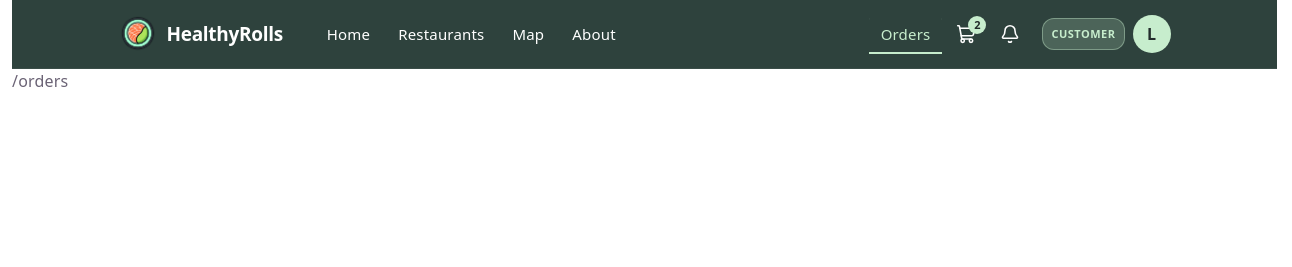
Test: Navbar characterisation › closes the account menu when clicking outside it
What coordinates should you click on to do the following:
click the button named "Account menu"
I would click on:
 (1152, 34)
Its box is top-left (1132, 15), bottom-right (1170, 53).
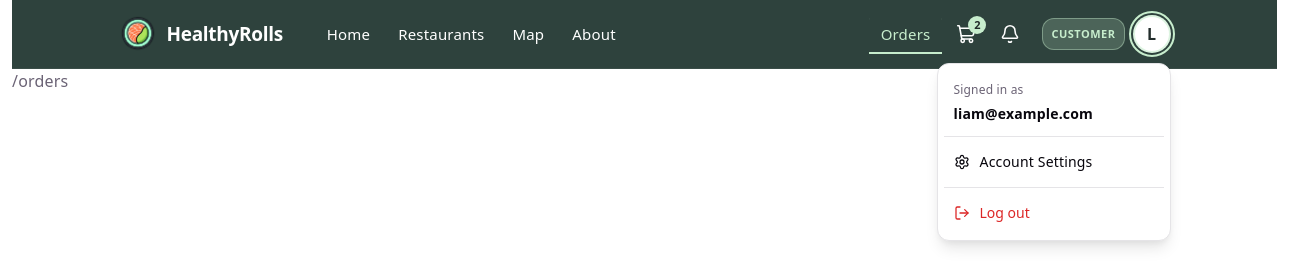
What coordinates should you click on to do the following:
click the text named "Current route"
I would click on:
 (40, 81)
Its box is top-left (12, 70), bottom-right (68, 92).
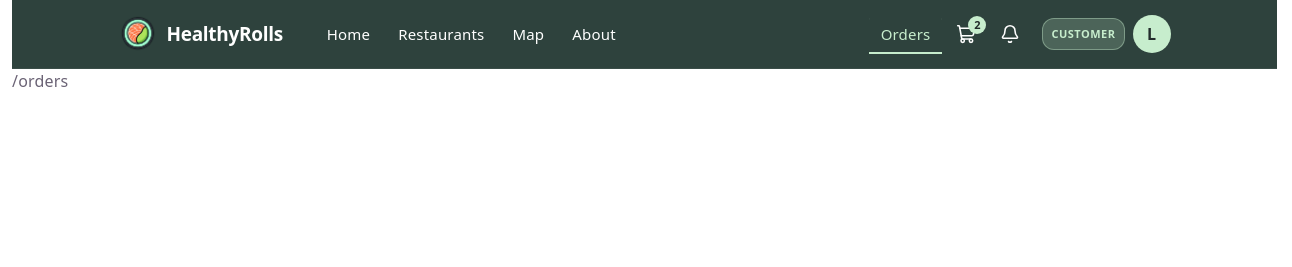
Check: the menu is gone
